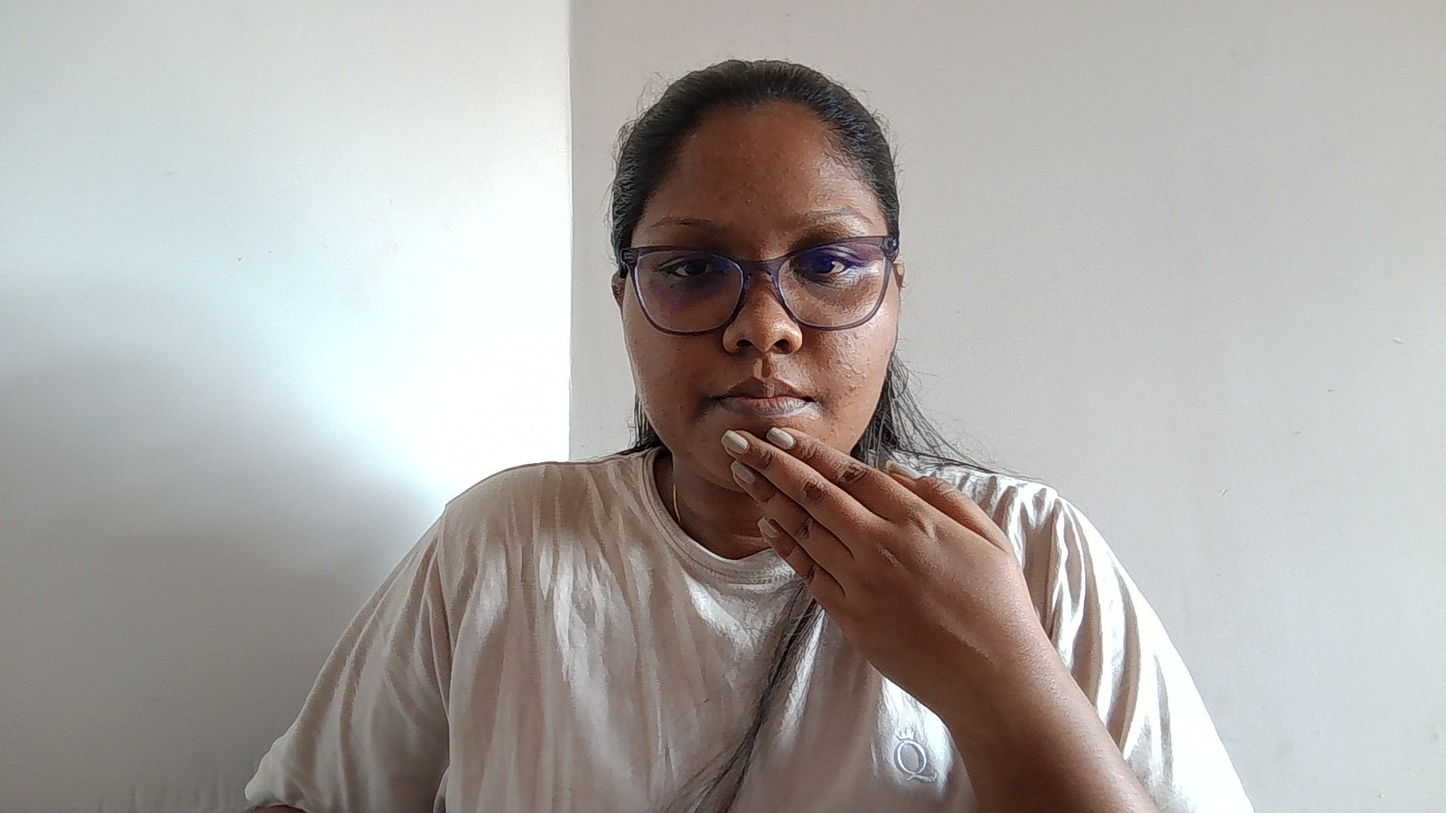Thank You: (512, 386, 1151, 770)
